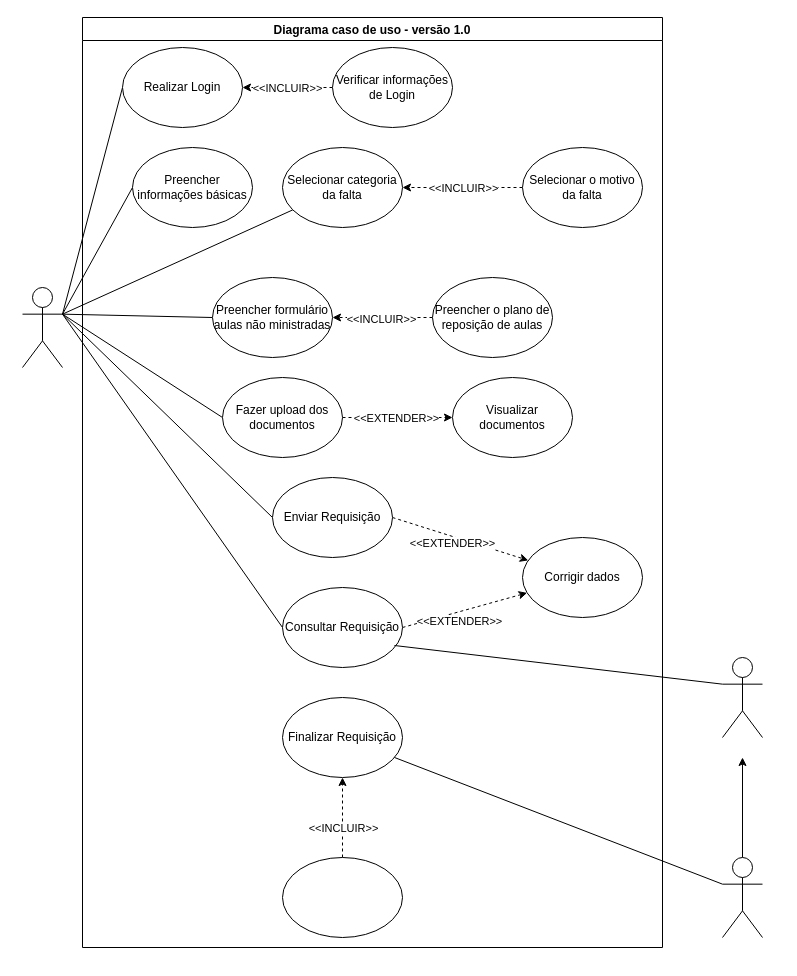
This 797x976 diagram has some shape labels left out. Each missing label, with the box of its shape:
Administrativo: (722, 656, 762, 738)
Aprovar ou Reprovar: (282, 856, 402, 938)
Coordenador: (722, 856, 762, 938)
Professor FATEC: (22, 286, 62, 368)
